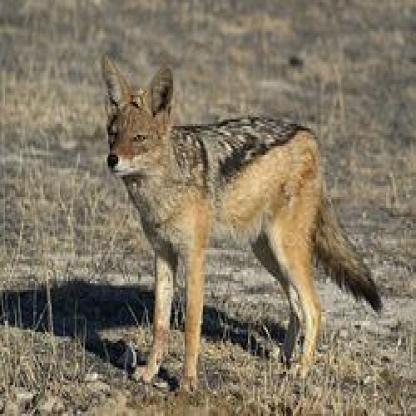dhole: (95, 49, 383, 394)
